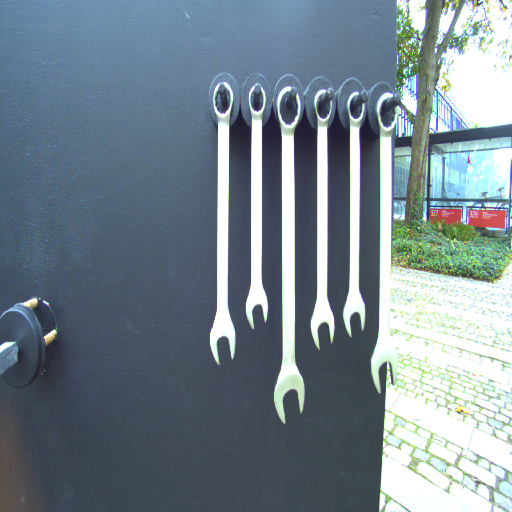bottom: (273, 366, 305, 424), (207, 310, 239, 366), (368, 350, 402, 397), (309, 298, 335, 351), (341, 291, 367, 337), (243, 287, 270, 328)
top: (274, 83, 304, 134), (374, 89, 399, 139), (210, 81, 237, 124), (310, 86, 334, 125), (247, 81, 269, 122), (344, 89, 367, 127)
